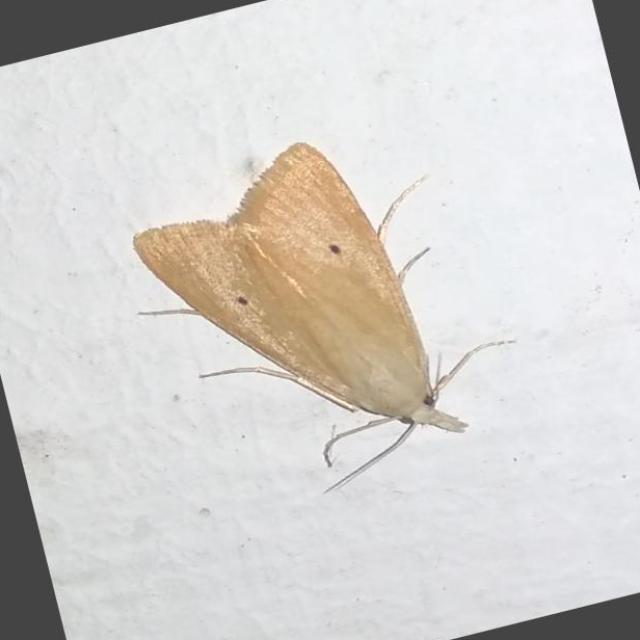stem borer: (134, 144, 507, 487)
